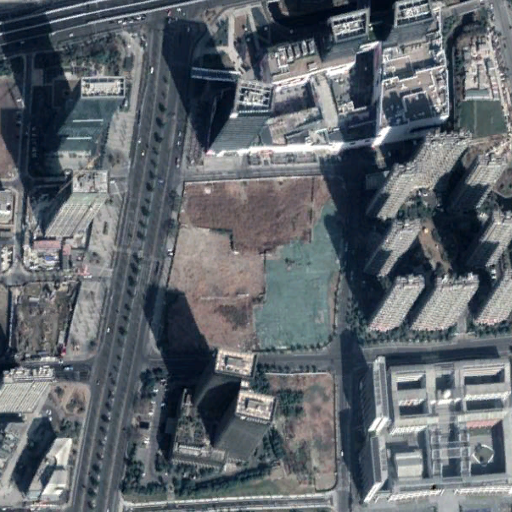cw: (149, 182, 341, 365)
